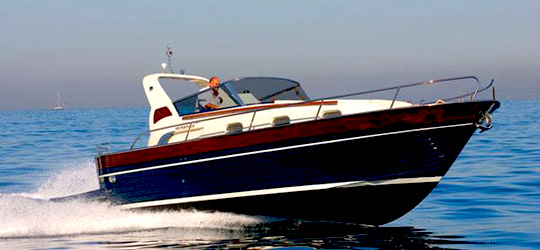boat: (95, 52, 500, 225), (49, 91, 67, 111)
person: (192, 76, 231, 119)
